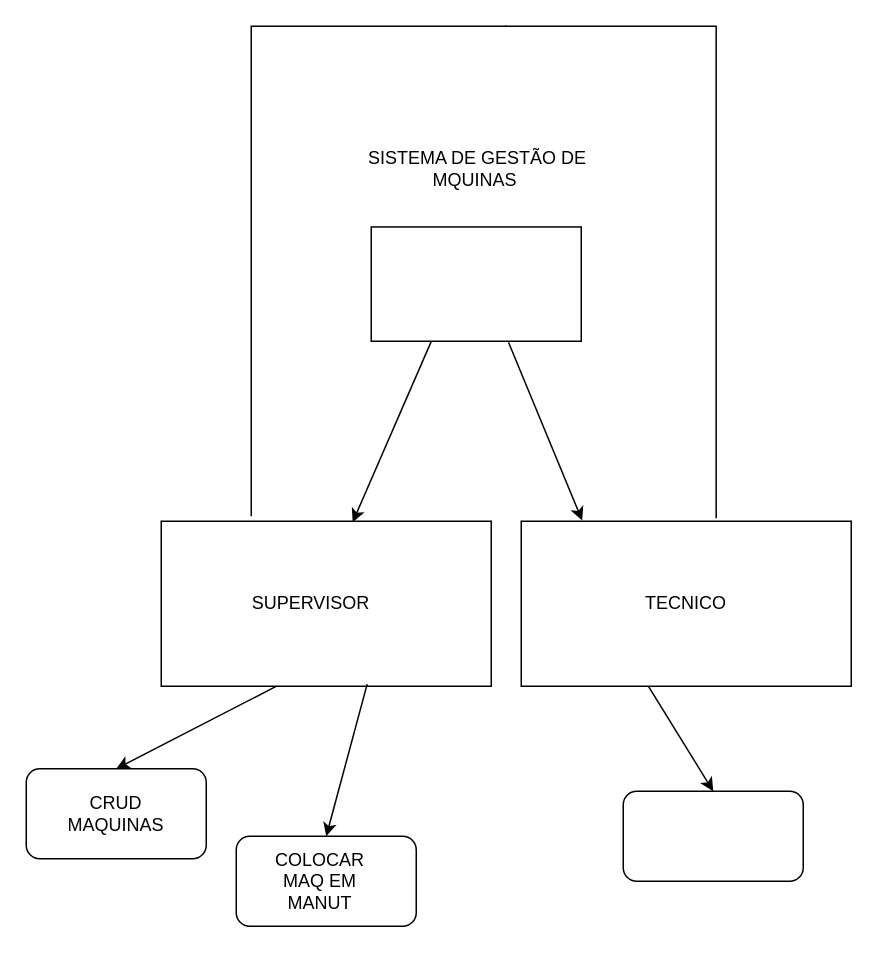
The diagram is 878 pixels wide and 953 high, and some of its shapes have lost their labels. The shapes that lost their labels are listed below. From the top down, each one's centre as x and y in pixels, then its label:
[475,283]: LOGIN
[712,835]: VER MAQ E CONCLUIR
